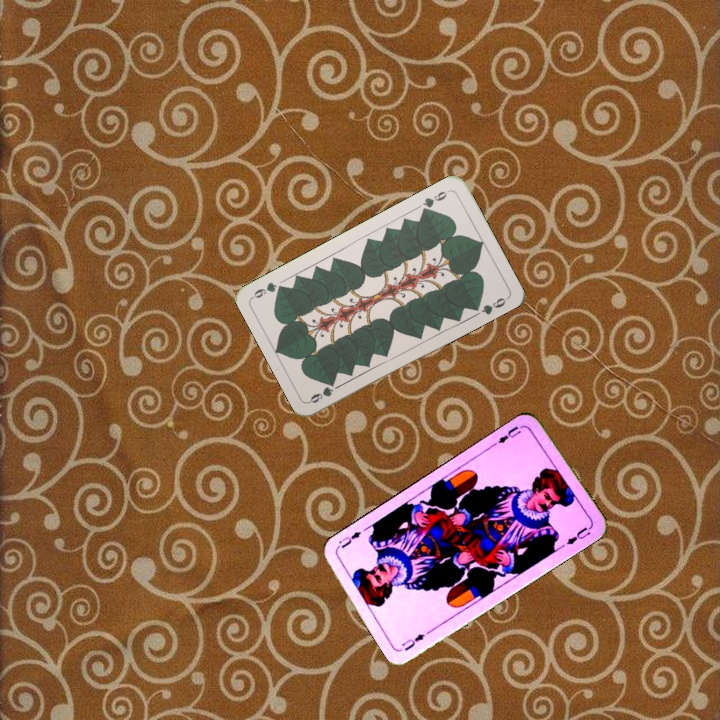EU: (490, 422, 523, 448), (397, 630, 428, 653)
G9: (418, 186, 452, 215), (305, 378, 337, 406)
